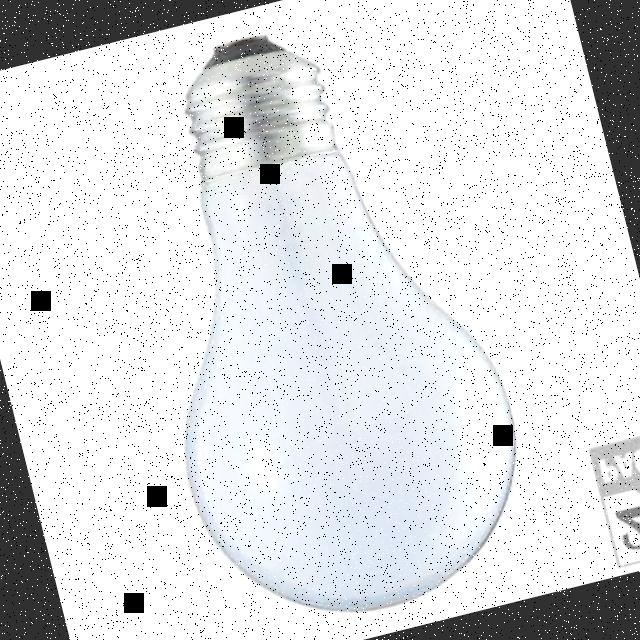light_bulb: (85, 0, 553, 640)
